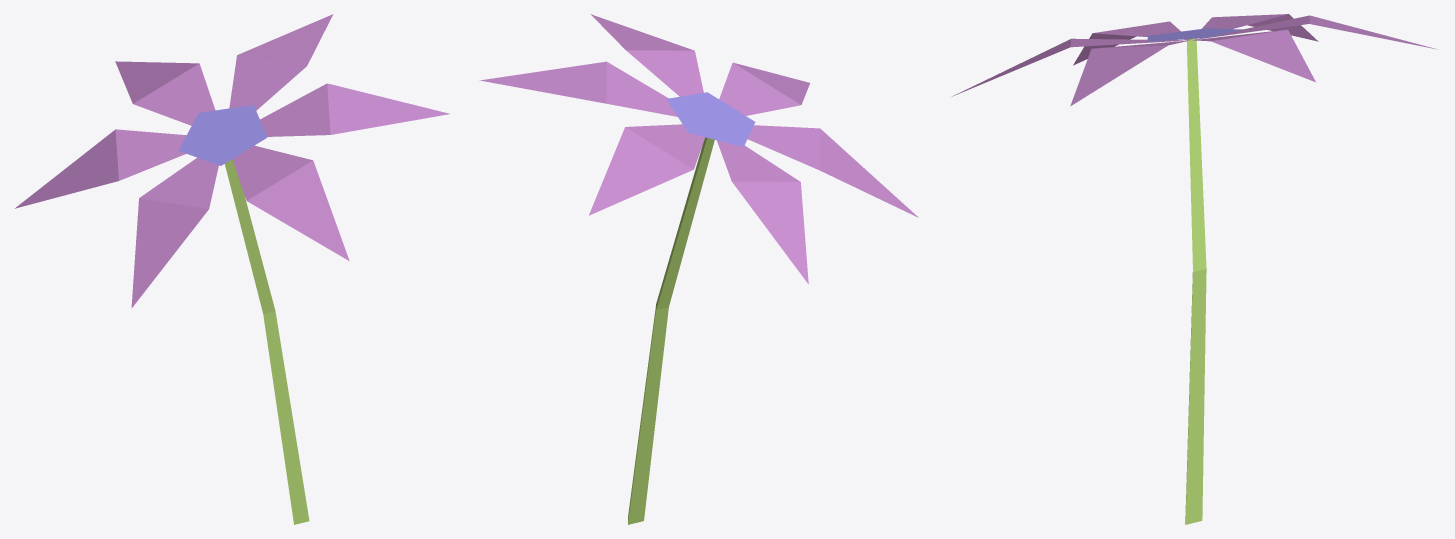
Rendered from Flower_b_OneS_04.fbx.
3 renders of one model, left to right at view 1: azimuth 30°, elevation 25°; view 2: azimuth 150°, elevation 25°; view 3: azimuth 270°, elevation 25°, orthographic. The views are drawn at different scales.
Visible parts, largest first — view 1: Flower_b_OneS_04; view 2: Flower_b_OneS_04; view 3: Flower_b_OneS_04.
Part boxes in pixels (<box>): Flower_b_OneS_04: <box>15,14,449,524</box>; Flower_b_OneS_04: <box>479,14,918,524</box>; Flower_b_OneS_04: <box>950,14,1436,524</box>.
Size of the model in its own units: 0.3269 by 0.4292 by 0.392.
